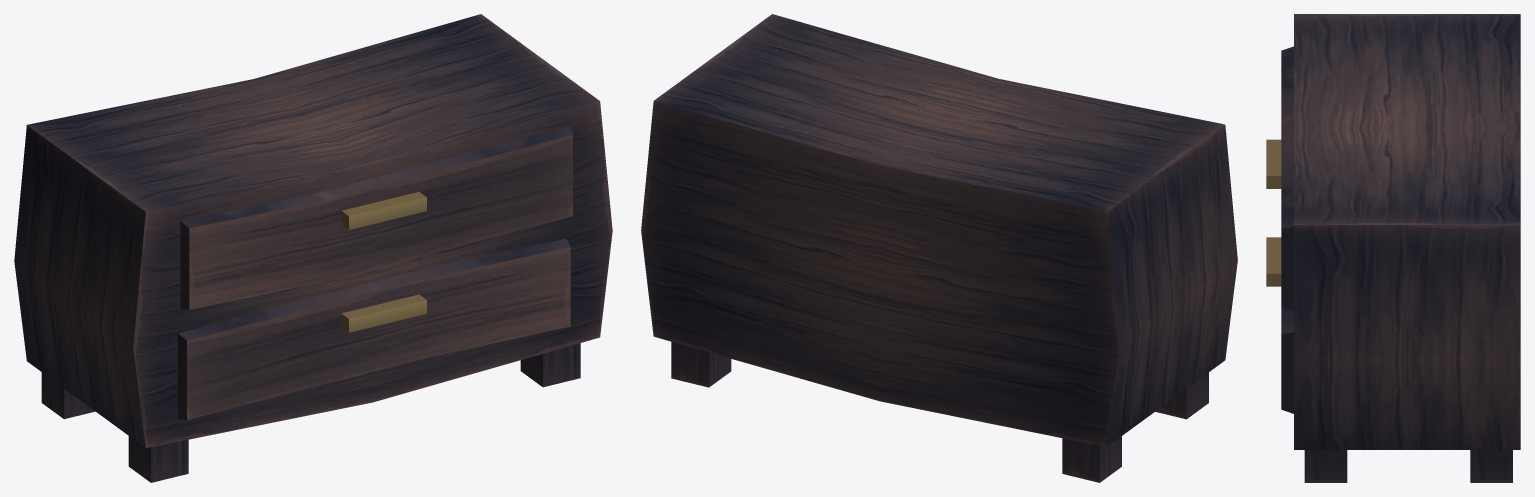
The model's file is Dresser_B.fbx.
3 renders of one model, left to right at view 1: azimuth 30°, elevation 25°; view 2: azimuth 150°, elevation 25°; view 3: azimuth 270°, elevation 25°, orthographic. The views are drawn at different scales.
Parts seen in each view (by area): view 1: Dresser_B; view 2: Dresser_B; view 3: Dresser_B.
Boxes of the visible parts, bbox=[...] form: Dresser_B: bbox=[14, 14, 612, 482]; Dresser_B: bbox=[641, 14, 1237, 482]; Dresser_B: bbox=[1266, 14, 1520, 482].
Bounding box in the file's own units: 0.3675 × 0.2035 × 0.1772.
